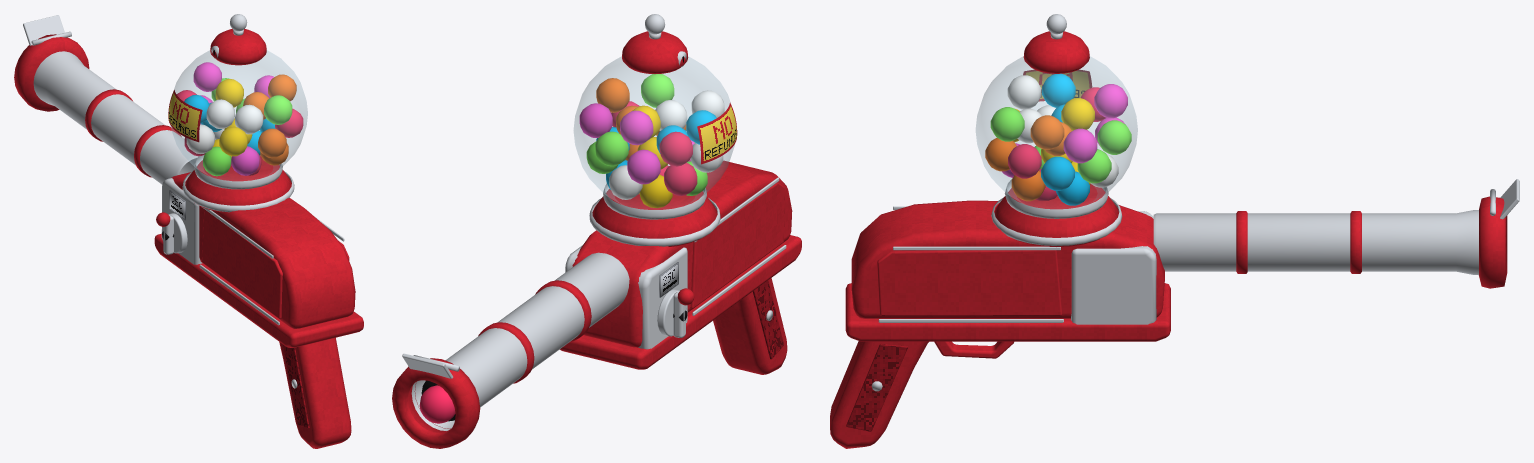
File: w_marbles_gumball.glb
3 views of the same model, side by side, from view 1: azimuth 30°, elevation 25°; view 2: azimuth 150°, elevation 25°; view 3: azimuth 270°, elevation 25° (orthographic). The views are drawn at different scales.
Parts seen in each view (by area): view 1: gumball_body_wzA, gumball_body_wzN, gumball_body_wzB; view 2: gumball_body_wzA, gumball_body_wzN, gumball_body_wzB; view 3: gumball_body_wzA, gumball_body_wzB, gumball_body_wzN.
Part boxes in pixels (box(x1,y1,x2,y2)): gumball_body_wzA: box(14, 29, 363, 448); gumball_body_wzN: box(168, 50, 307, 220); gumball_body_wzB: box(23, 14, 344, 388); gumball_body_wzA: box(392, 31, 801, 448); gumball_body_wzN: box(419, 56, 737, 423); gumball_body_wzB: box(402, 14, 786, 430); gumball_body_wzA: box(830, 31, 1507, 448); gumball_body_wzB: box(871, 14, 1519, 391); gumball_body_wzN: box(976, 56, 1137, 208).
Bounding box in the file's own units: 0.1146 × 0.3302 × 0.4839.
15 materials, 4 textured.
